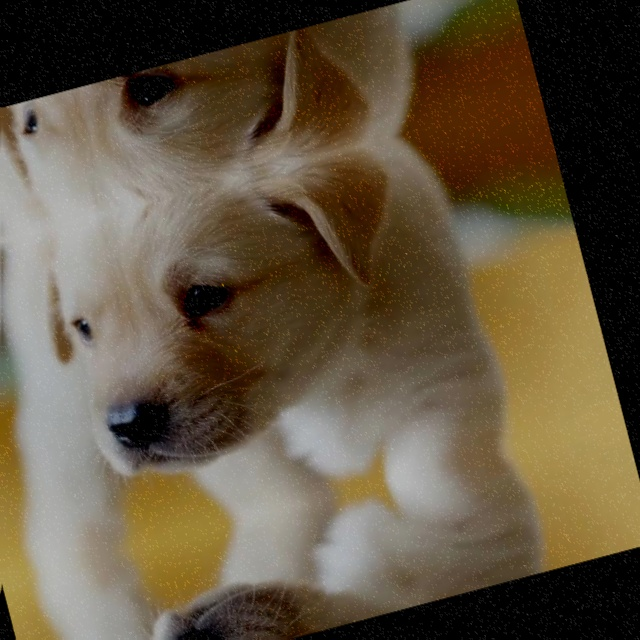dog: (0, 146, 425, 505), (0, 22, 359, 249), (70, 530, 473, 640)
